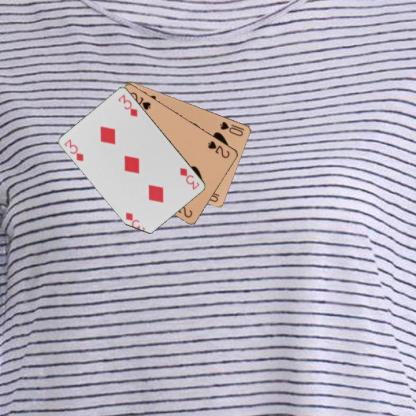10s: (218, 119, 245, 138)
2s: (206, 138, 231, 160)
3d: (177, 165, 201, 191), (62, 136, 85, 162)
